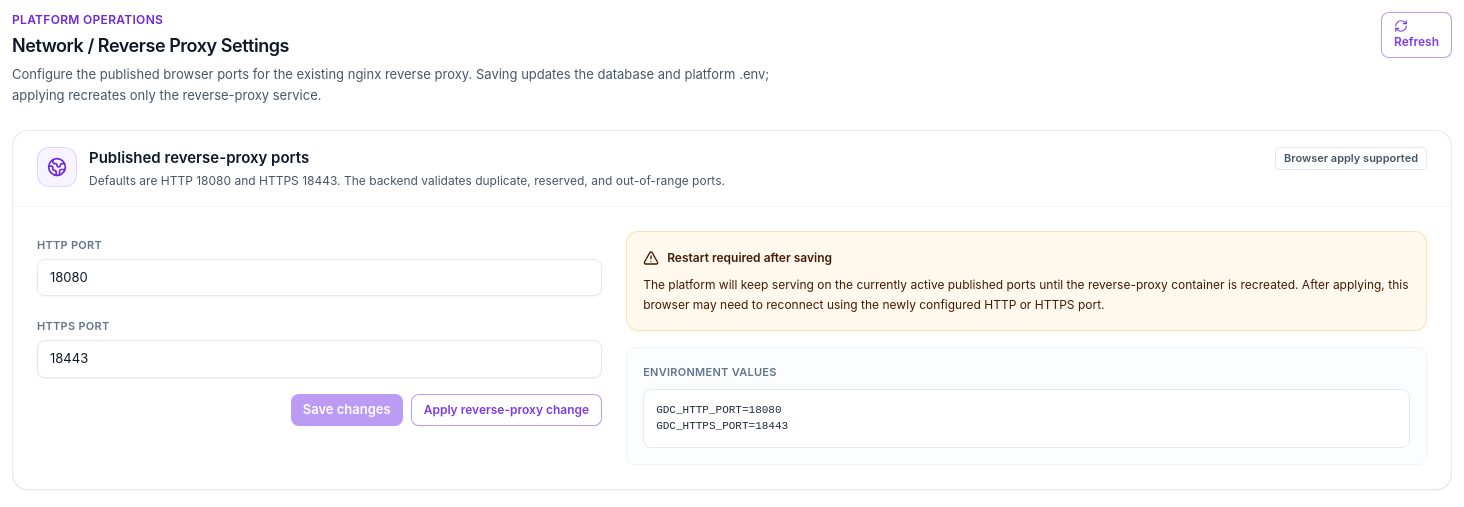
Test: AdminNetworkSettingsPage › keeps the environment preview bound to the HTTP and HTTPS fields
Step 1. Replace the text in the field labelled "HTTP Port" with "19080" → (320, 278), box [37,259,602,296]
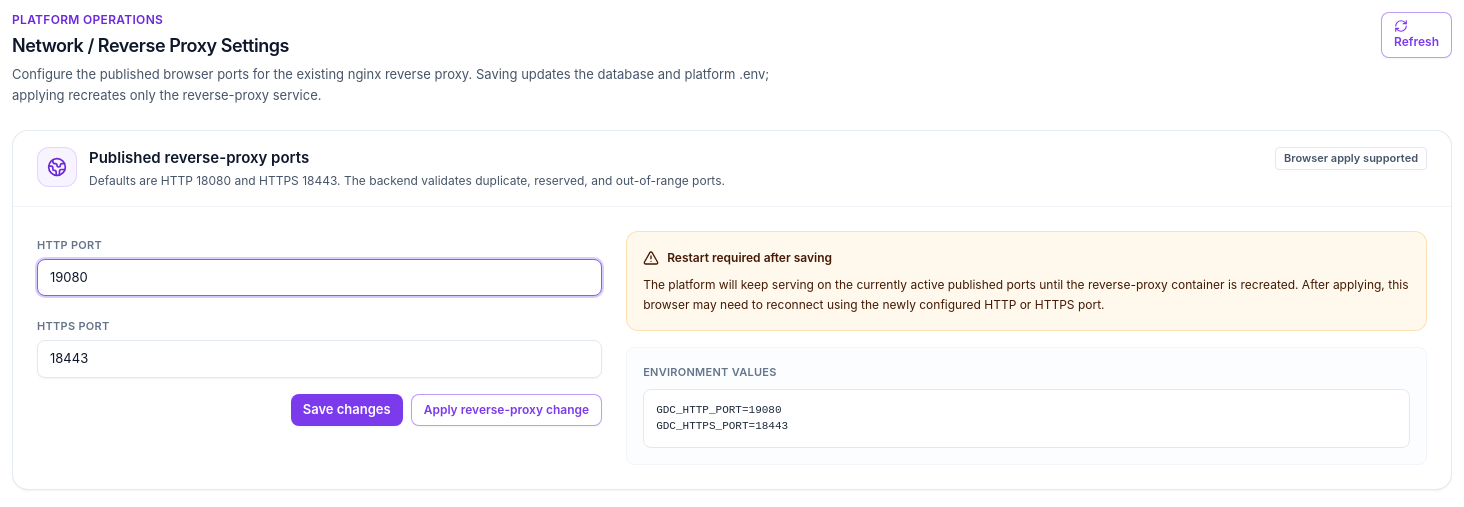
Step 2. Replace the text in the field labelled "HTTPS Port" with "19443" → (320, 359), box [37,340,602,378]
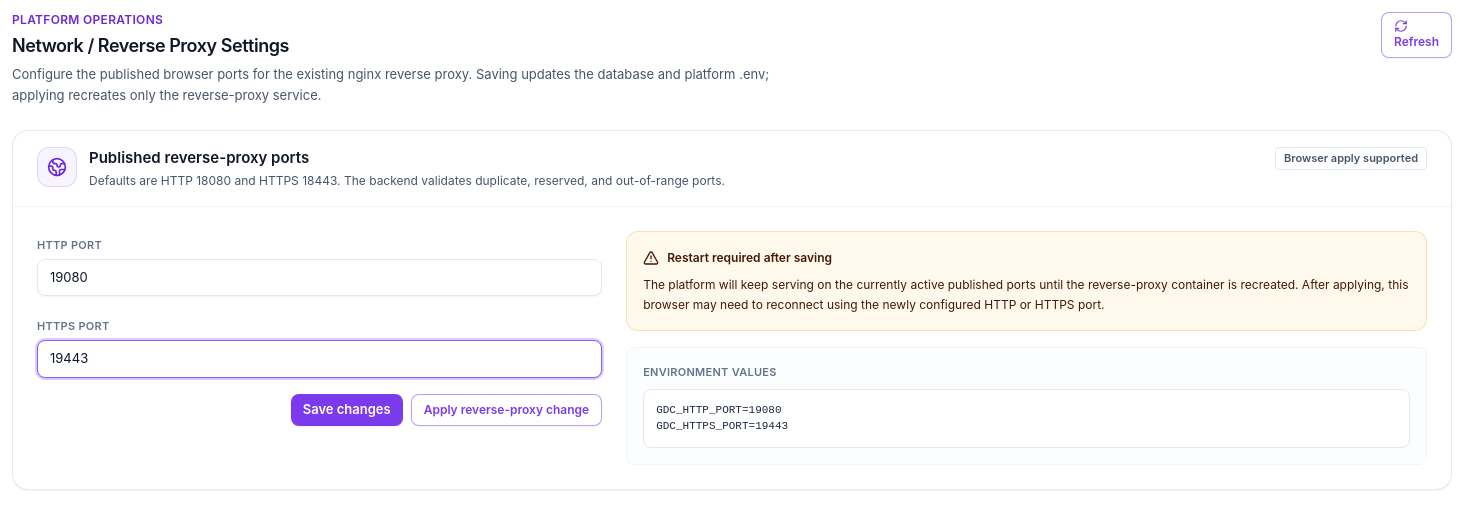
Now the text with test id "network-env-example" shows "GDC_HTTP_PORT=19080", box [656,404,782,416]
Now the text with test id "network-env-example" shows "GDC_HTTPS_PORT=19443", box [656,420,788,432]
